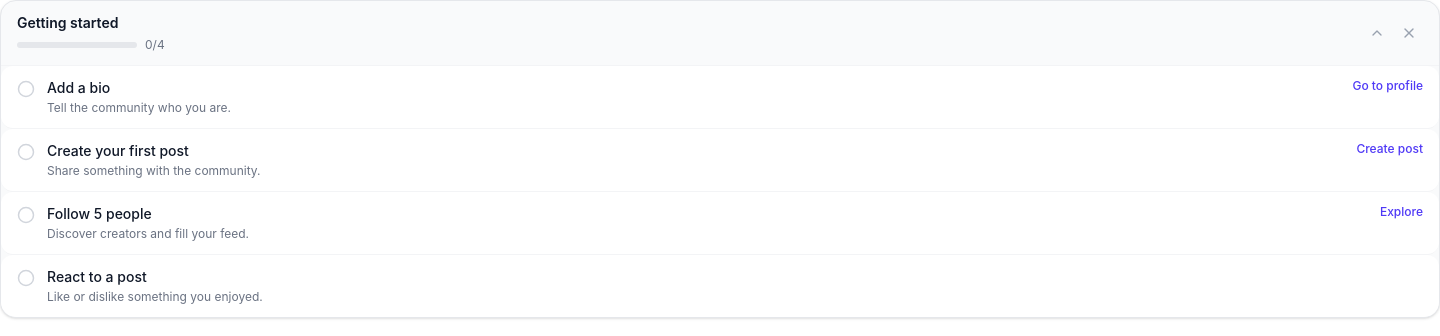
Test: OnboardingBar › collapses steps on chevron click
Expected: the text "Add a bio" is shown, [47,79,110,96]
Click the button named "Collapse" at x=1377, y=33, box [1363,19,1391,47]
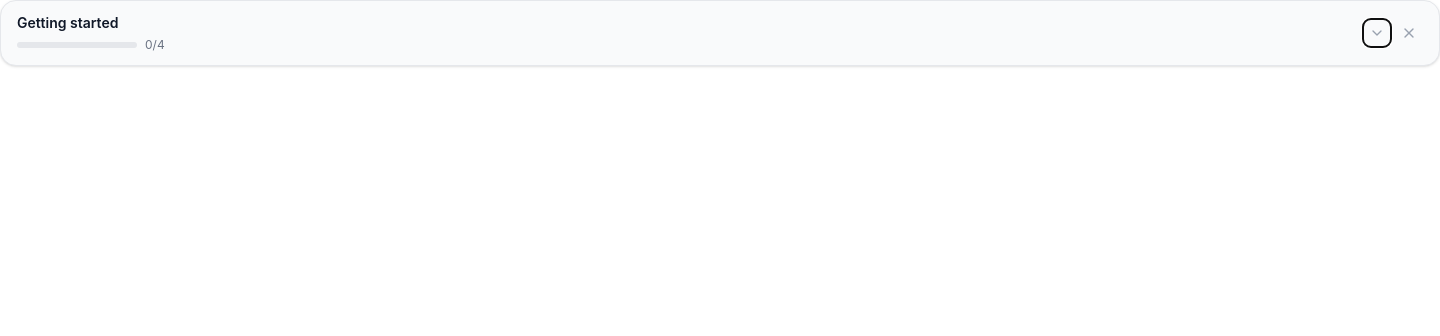
Result: the text "Add a bio" is gone
